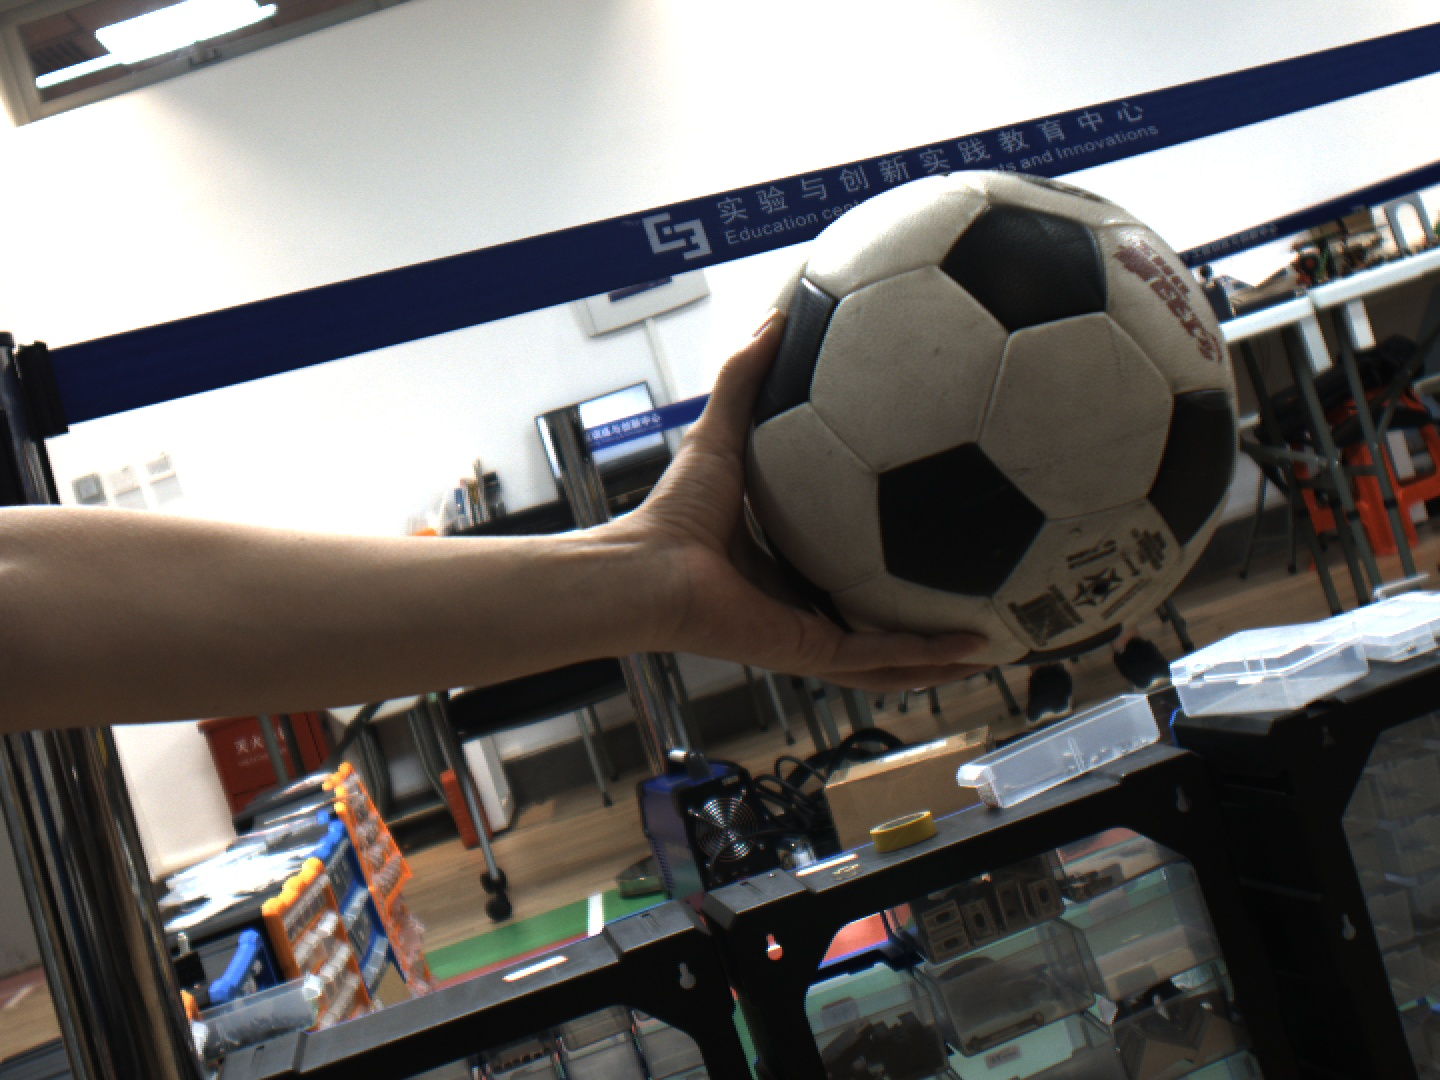ball: (742, 167, 1254, 666)
